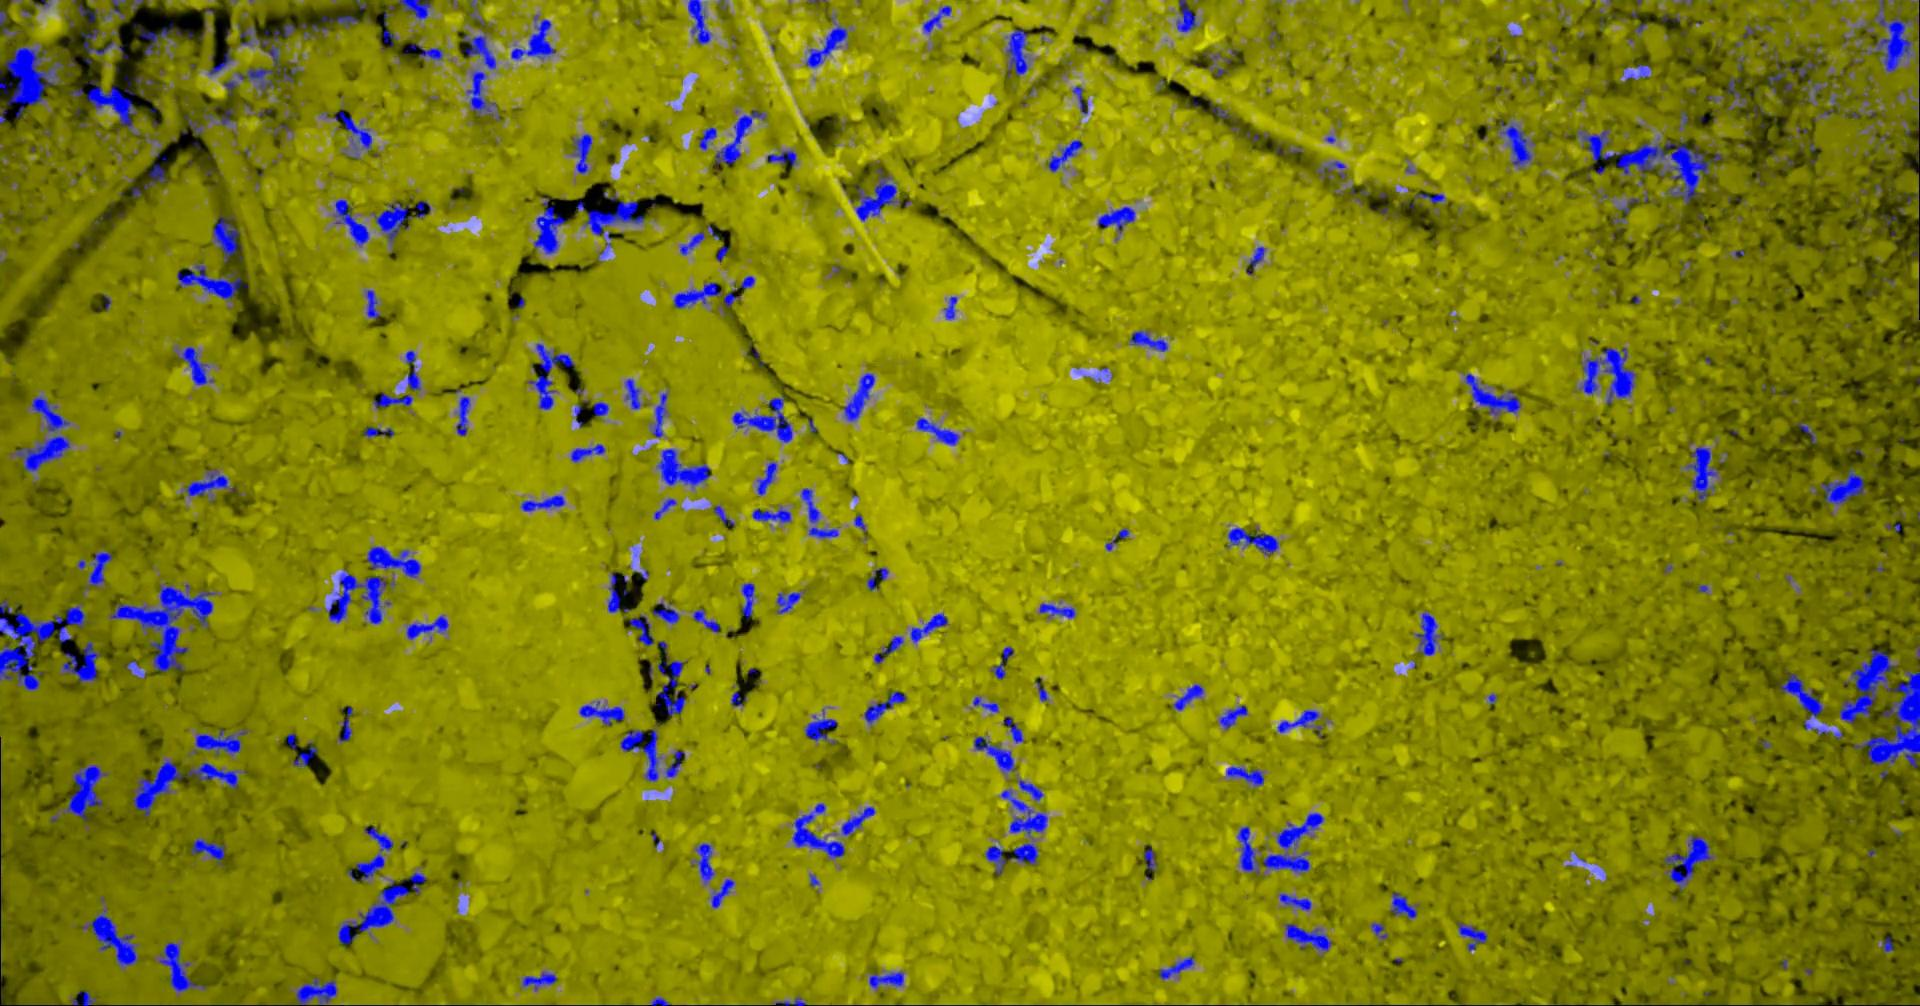ant: (1779, 672, 1843, 738), (583, 191, 644, 246), (526, 343, 574, 409), (714, 109, 764, 169), (791, 801, 844, 857), (731, 395, 791, 442), (1663, 835, 1712, 890), (177, 263, 248, 300), (850, 169, 899, 221), (372, 199, 430, 243), (1768, 51, 1825, 93), (157, 941, 206, 991), (1464, 373, 1520, 415), (618, 724, 658, 781), (1001, 788, 1048, 835), (655, 640, 684, 715), (805, 17, 847, 67), (356, 826, 392, 882), (657, 448, 710, 486), (510, 14, 555, 58), (673, 281, 739, 310), (323, 111, 371, 150), (1685, 446, 1718, 502), (184, 467, 237, 502), (533, 197, 565, 253), (984, 842, 1037, 875), (333, 199, 370, 246), (1820, 467, 1865, 504), (1497, 119, 1533, 166), (366, 546, 420, 577), (174, 345, 215, 384), (61, 641, 99, 682), (973, 735, 1015, 772), (842, 373, 874, 420), (196, 728, 248, 756), (212, 213, 241, 262), (466, 70, 497, 116), (1225, 527, 1277, 554), (138, 22, 180, 55), (863, 690, 905, 723), (80, 29, 127, 58), (1611, 193, 1647, 231), (1276, 709, 1323, 737), (1285, 923, 1331, 951), (1415, 611, 1443, 655), (462, 32, 495, 69), (916, 417, 959, 445), (1004, 28, 1029, 77), (804, 708, 837, 743), (295, 977, 337, 1005), (1048, 138, 1082, 171), (579, 700, 623, 725), (909, 612, 947, 641), (687, 0, 711, 44), (406, 614, 448, 639), (1097, 206, 1135, 232), (84, 551, 110, 589), (691, 842, 714, 884), (841, 807, 874, 835), (190, 838, 225, 865), (1457, 921, 1487, 950), (872, 635, 903, 663), (607, 573, 629, 612), (1129, 329, 1167, 351), (649, 392, 667, 437), (922, 5, 951, 32), (1173, 683, 1203, 710), (1225, 766, 1263, 786), (990, 647, 1013, 680), (1159, 956, 1192, 979), (571, 133, 590, 173), (1390, 892, 1418, 918), (629, 615, 653, 645), (692, 607, 720, 633), (208, 46, 232, 75), (756, 461, 776, 495), (800, 486, 819, 522), (519, 495, 564, 511), (521, 970, 556, 989), (1219, 705, 1247, 729), (711, 879, 734, 908), (570, 443, 604, 462), (404, 351, 420, 390), (143, 163, 168, 189), (397, 0, 430, 19), (1176, 0, 1196, 30), (1726, 76, 1746, 107), (292, 742, 317, 766), (1017, 777, 1043, 801), (869, 970, 903, 988), (651, 602, 679, 624), (372, 392, 411, 408), (750, 507, 790, 522), (1244, 246, 1265, 274), (1039, 603, 1076, 619), (679, 231, 703, 254), (1103, 527, 1128, 550), (409, 43, 442, 60), (1277, 893, 1310, 909), (1318, 160, 1346, 179), (455, 396, 469, 434), (776, 592, 800, 614), (1003, 716, 1023, 742), (665, 749, 684, 776), (766, 150, 796, 166), (623, 379, 640, 409), (653, 498, 676, 520), (866, 567, 888, 589), (1070, 85, 1087, 114), (382, 11, 396, 46), (338, 706, 352, 741), (183, 111, 203, 133), (364, 290, 380, 319), (76, 3, 99, 22), (742, 583, 754, 617), (321, 15, 358, 27), (469, 0, 485, 25), (1818, 97, 1840, 116), (1797, 422, 1816, 443), (712, 506, 734, 525), (971, 696, 998, 711), (70, 989, 95, 1005), (698, 127, 716, 149), (1209, 100, 1229, 118), (124, 661, 145, 678), (1413, 192, 1444, 203), (808, 527, 838, 539), (1143, 845, 1156, 870), (853, 514, 867, 537), (363, 426, 394, 436), (943, 296, 956, 319), (775, 996, 806, 1005), (110, 0, 124, 19), (0, 70, 11, 93), (0, 9, 10, 34), (217, 108, 232, 124), (592, 401, 608, 417), (1370, 922, 1387, 937), (223, 79, 237, 95), (1036, 682, 1048, 701), (1636, 64, 1651, 77), (739, 276, 754, 290), (731, 691, 745, 706), (286, 732, 297, 749), (1882, 935, 1893, 951), (716, 245, 728, 260), (650, 997, 670, 1005)
